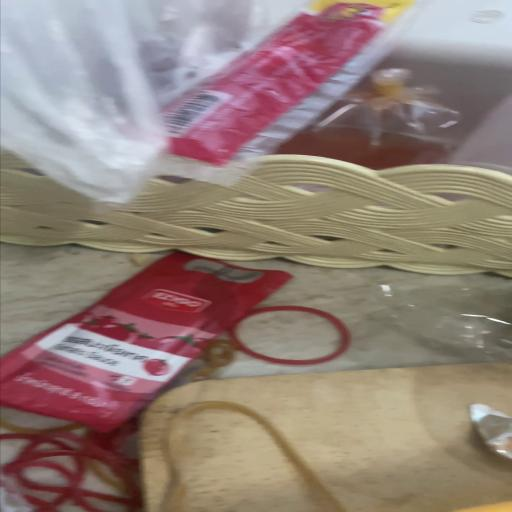brand_golden_good: (128, 362, 512, 512)
street_golden_defect: (130, 362, 512, 512)
